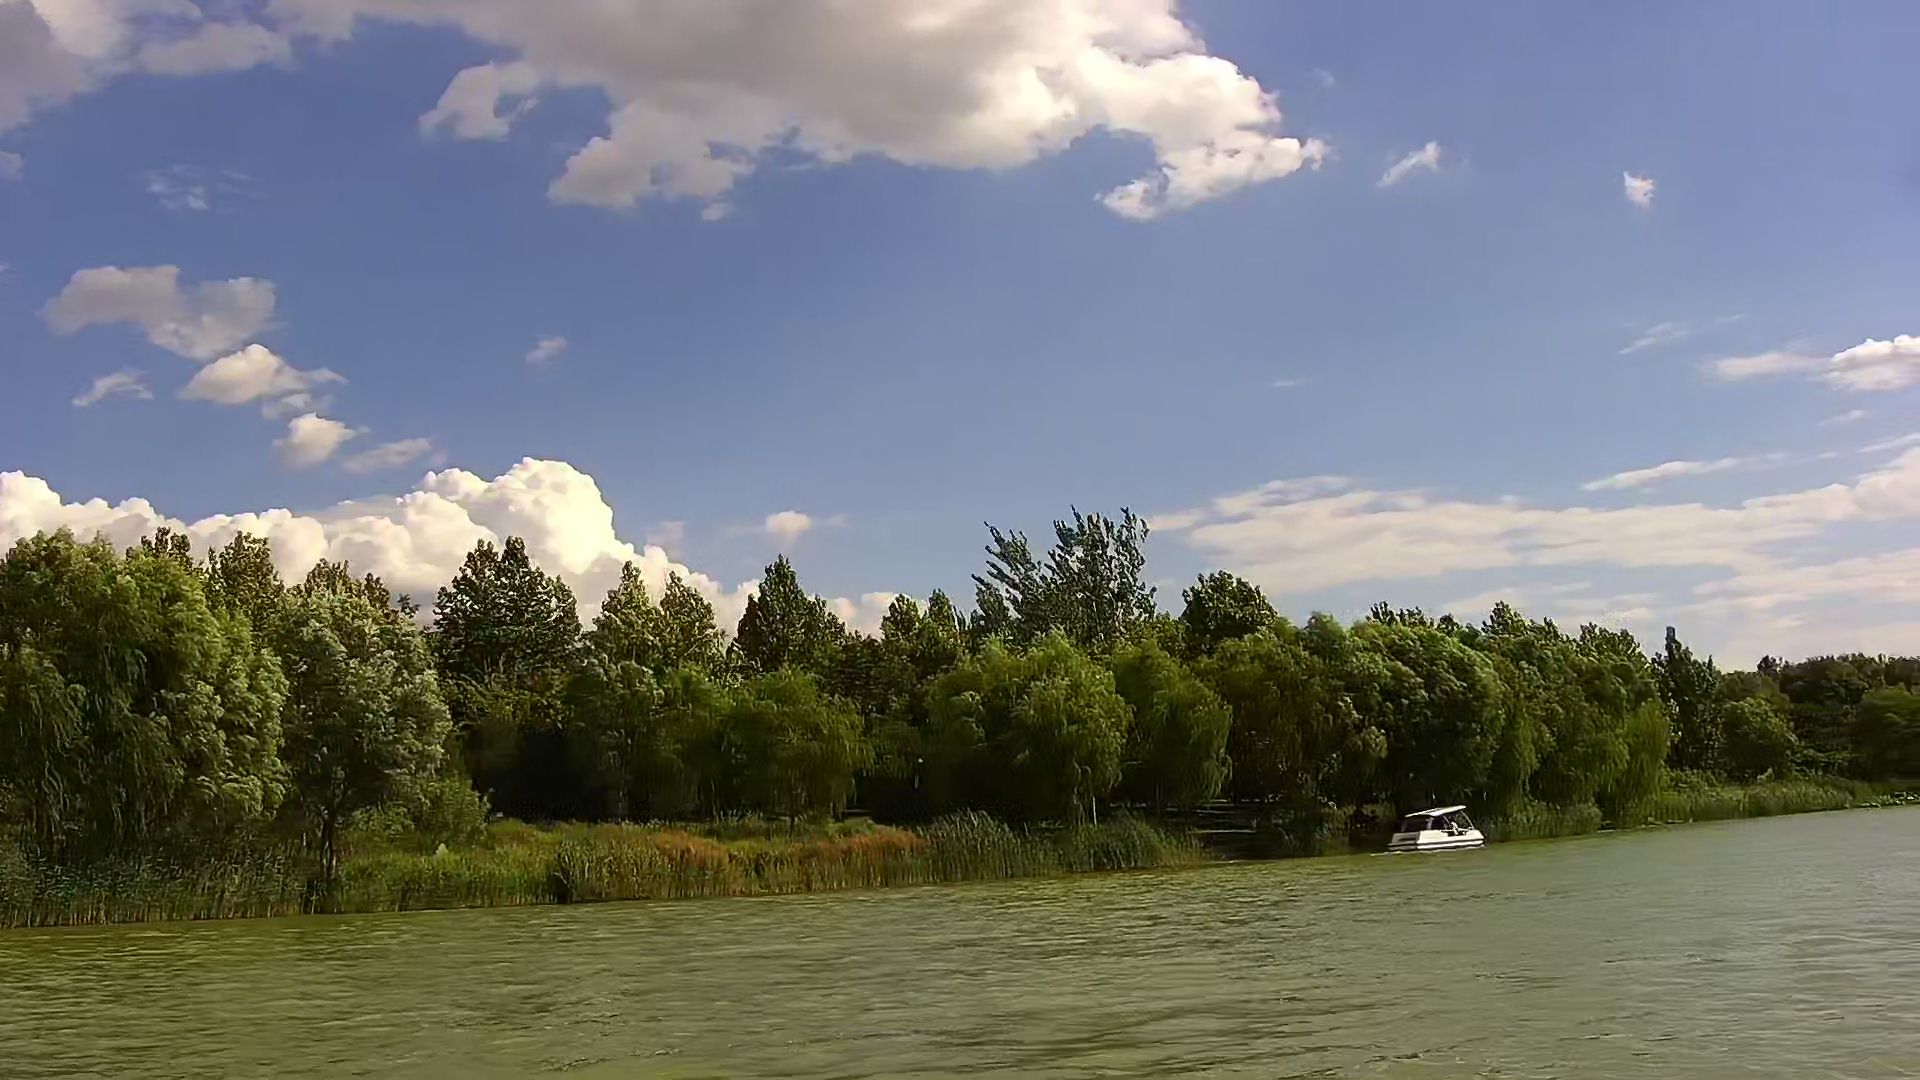boat: (1393, 800, 1480, 852)
